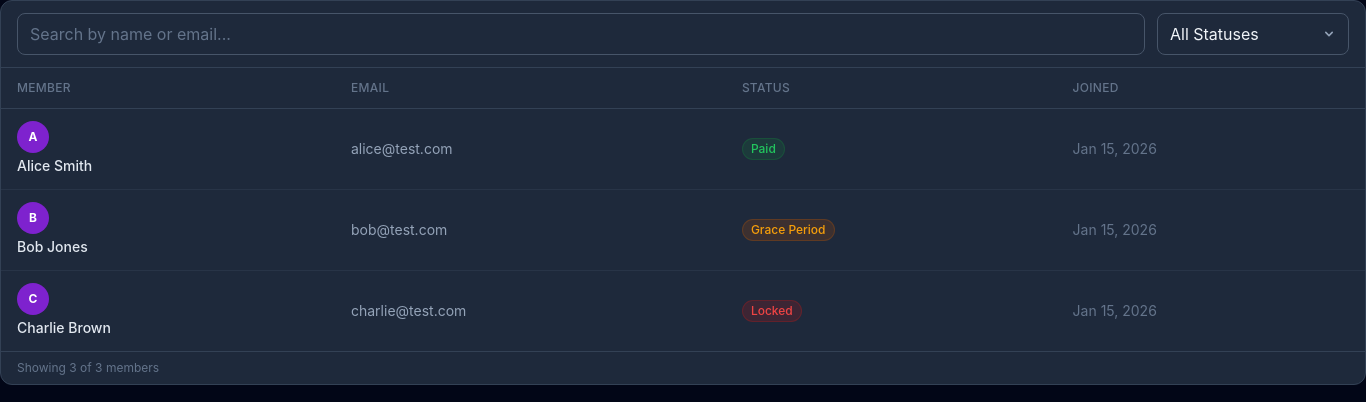
MemberTable — search filtering › filters members by name search
The width and height of the screenshot is (1366, 402).
Type "alice" into the field with placeholder "Search by name or email..." at (581, 34), box [17,13,1145,55]
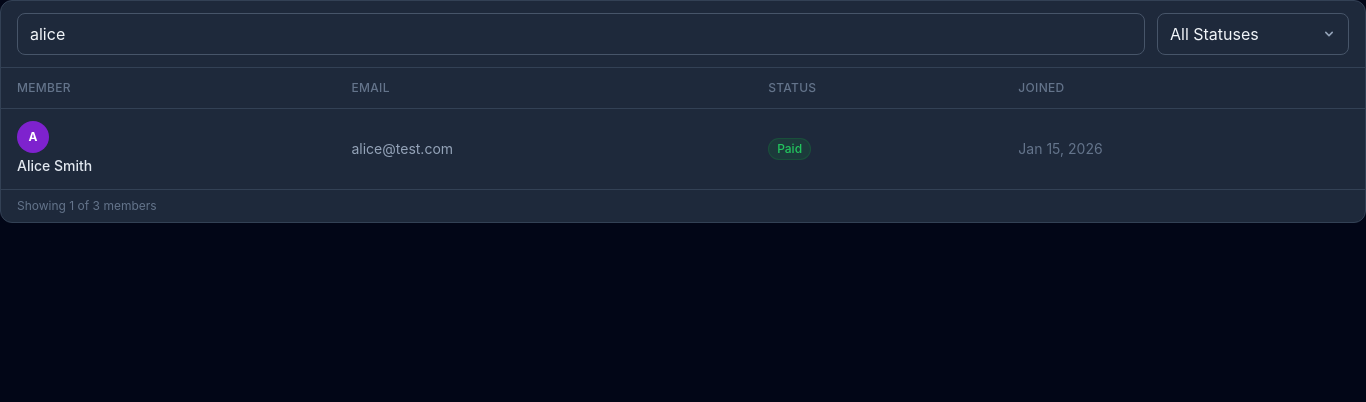
Expected: the text "Alice Smith" is shown, [17,157,92,174]
Now the link "Bob Jones" is gone
